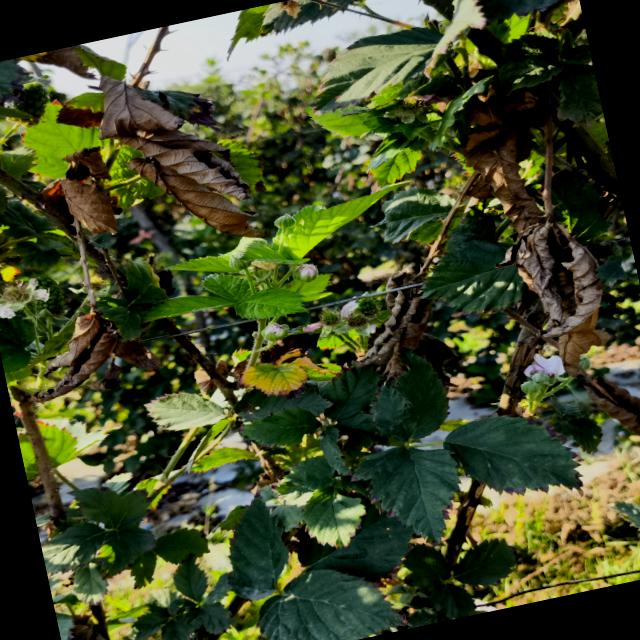boton: (262, 323, 289, 341), (293, 263, 318, 282), (274, 214, 295, 228), (529, 371, 552, 383), (229, 256, 248, 270)
